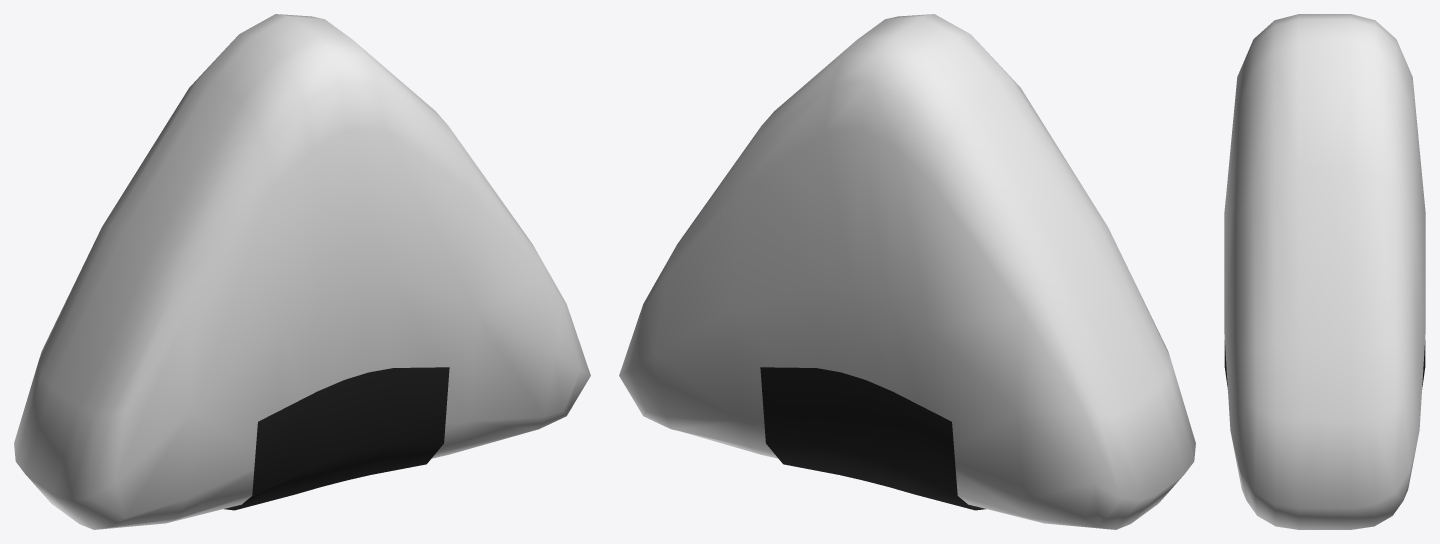
File: Food_Onigiri.fbx
The picture shows the model from 3 angles, left to right: view 1: azimuth 30°, elevation 25°; view 2: azimuth 150°, elevation 25°; view 3: azimuth 270°, elevation 25°; orthographic projection. The views are drawn at different scales.
Parts seen in each view (by area): view 1: Food_Onigiri; view 2: Food_Onigiri; view 3: Food_Onigiri.
Boxes of the visible parts, x1=… form: Food_Onigiri: x1=14, y1=14, x2=590, y2=529; Food_Onigiri: x1=619, y1=14, x2=1195, y2=529; Food_Onigiri: x1=1224, y1=14, x2=1425, y2=529.
Bounding box in the file's own units: 58.56 × 47.74 × 20.74.
